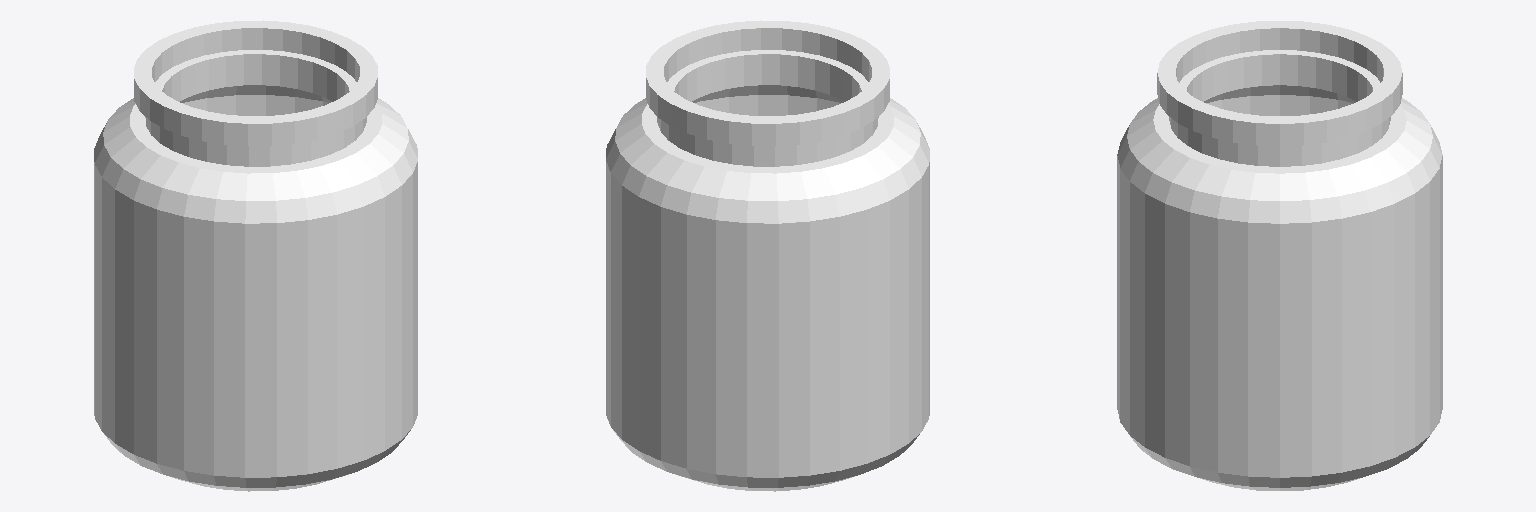
The robot description file, URDF, robot "jar":
<?xml version="1.0"?>
<robot name="jar">
  <link name="jar_link">
    <inertial>
      <origin xyz="0 0 0" rpy="0 0 0"/>
      <mass value="0.5"/>
      <inertia ixx="0.001" ixy="0" ixz="0" iyy="0.001" iyz="0" izz="0.001"/>
    </inertial>
    <visual>
      <origin xyz="0 0 0" rpy="0 0 0"/>
      <geometry>
        <mesh filename="Jar.stl" scale="1.0 1.0 1.0"/>
      </geometry>
      <material name="transparent_white">
        <color rgba="1.0 1.0 1.0 0.4"/>
      </material>
    </visual>
    <collision>
      <origin xyz="0 0 0" rpy="0 0 0"/>
      <geometry>
        <mesh filename="Jar.stl" scale="1.0 1.0 1.0"/>
      </geometry>
    </collision>
  </link>
</robot> 

--- Render facts (derived) ---
3 views of the same robot in one strip: view 1: azimuth 30°, elevation 25°; view 2: azimuth 150°, elevation 25°; view 3: azimuth 270°, elevation 25° (orthographic).
Model jar with 1 links and 0 joints (none), rooted at jar_link, posed every joint at zero.
Links seen in each view (by area): view 1: jar_link; view 2: jar_link; view 3: jar_link.
Link boxes in pixels (x1,y1,x2,y2): jar_link: (94,20,417,491); jar_link: (606,20,929,491); jar_link: (1117,21,1442,490).
Size in the robot's own frame: 2.99 by 2.99 by 3.74 metres.
Meshes: 1 distinct files referenced, 1 mesh visuals loaded (1 binary STL).
